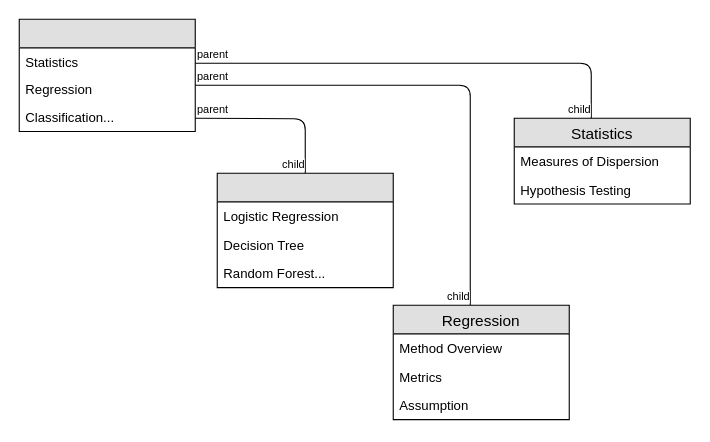
The diagram is 710 pixels wide and 442 high, and some of its shapes have lost their labels. The shapes that lost their labels are listed below. From the top down, each one's box as (x1, y1, x2, y2) in pixels, then its label:
(18, 18, 195, 131): Main
(216, 172, 393, 288): Classification
